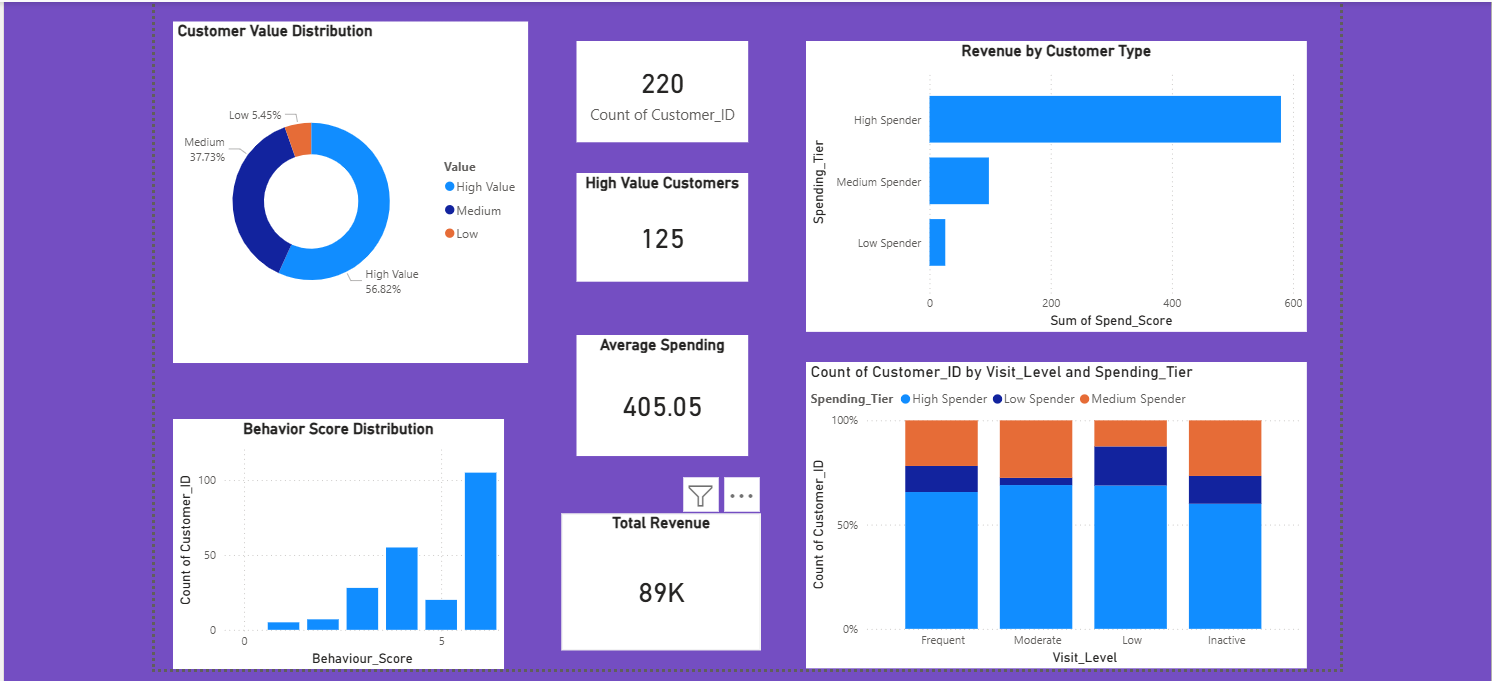

The dashboard page shown, as its layout file describes it:
{"tool":"powerbi","page":{"name":"Customer Behavior Dashboard","canvas":[1280,720],"ordinal":1},"visuals":[{"type":"donutChart","title":"Customer Value Distribution","fields":{"Category":["Messy_customer_behaviour_datase.Value"],"Y":["CountNonNull(Messy_customer_behaviour_datase.Customer_ID)"]},"box":[18.9,20.8,383.6,368.5],"z":0},{"type":"barChart","title":"Revenue by Customer Type","fields":{"Y":["Sum(Messy_customer_behaviour_datase.Spend_Score)"],"Category":["Messy_customer_behaviour_datase.Spending_Tier"]},"box":[703,41.6,540.5,313.7],"z":1000},{"type":"hundredPercentStackedColumnChart","fields":{"Category":["Messy_customer_behaviour_datase.Visit_Level"],"Y":["CountNonNull(Messy_customer_behaviour_datase.Customer_ID)"],"Series":["Messy_customer_behaviour_datase.Spending_Tier"]},"box":[703,389.3,540.5,330.7],"z":2000},{"type":"clusteredColumnChart","title":"Behavior Score Distribution","fields":{"Category":["Messy_customer_behaviour_datase.Behaviour_Score"],"Y":["CountNonNull(Messy_customer_behaviour_datase.Customer_ID)"]},"box":[18.9,449.7,357.2,270.2],"z":3000},{"type":"card","fields":{"Values":["CountNonNull(Messy_customer_behaviour_datase.Customer_ID)"]},"box":[455.4,41.6,185.2,109.6],"z":4000},{"type":"card","title":"High Value Customers","fields":{"Values":["CountNonNull(Messy_customer_behaviour_datase.Customer_ID)"]},"box":[455.4,185.2,185.2,117.2],"z":5000},{"type":"card","title":"Average Spending","fields":{"Values":["Avg(Messy_customer_behaviour_datase.Avg_Spending_USD)"]},"box":[455.4,359.1,185.2,130.4],"z":6000},{"type":"card","title":"Total Revenue","fields":{"Values":["Sum(Messy_customer_behaviour_datase.Avg_Spending_USD)"]},"box":[438.4,551.8,215.4,147.4],"z":7000}]}

Visuals, with their boxes in screenshot pixels (x1, y1, x2, y2):
"Customer Value Distribution" donutChart: locate(165, 15, 523, 359)
"Revenue by Customer Type" barChart: locate(802, 35, 1306, 327)
hundredPercentStackedColumnChart - Messy_customer_behaviour_datase.Visit_Level x CountNonNull(Messy_customer_behaviour_datase.Customer_ID): locate(802, 359, 1306, 667)
"Behavior Score Distribution" clusteredColumnChart: locate(165, 415, 498, 667)
card - CountNonNull(Messy_customer_behaviour_datase.Customer_ID): locate(572, 35, 744, 137)
"High Value Customers" card: locate(572, 169, 744, 278)
"Average Spending" card: locate(572, 331, 744, 452)
"Total Revenue" card: locate(556, 510, 757, 647)
